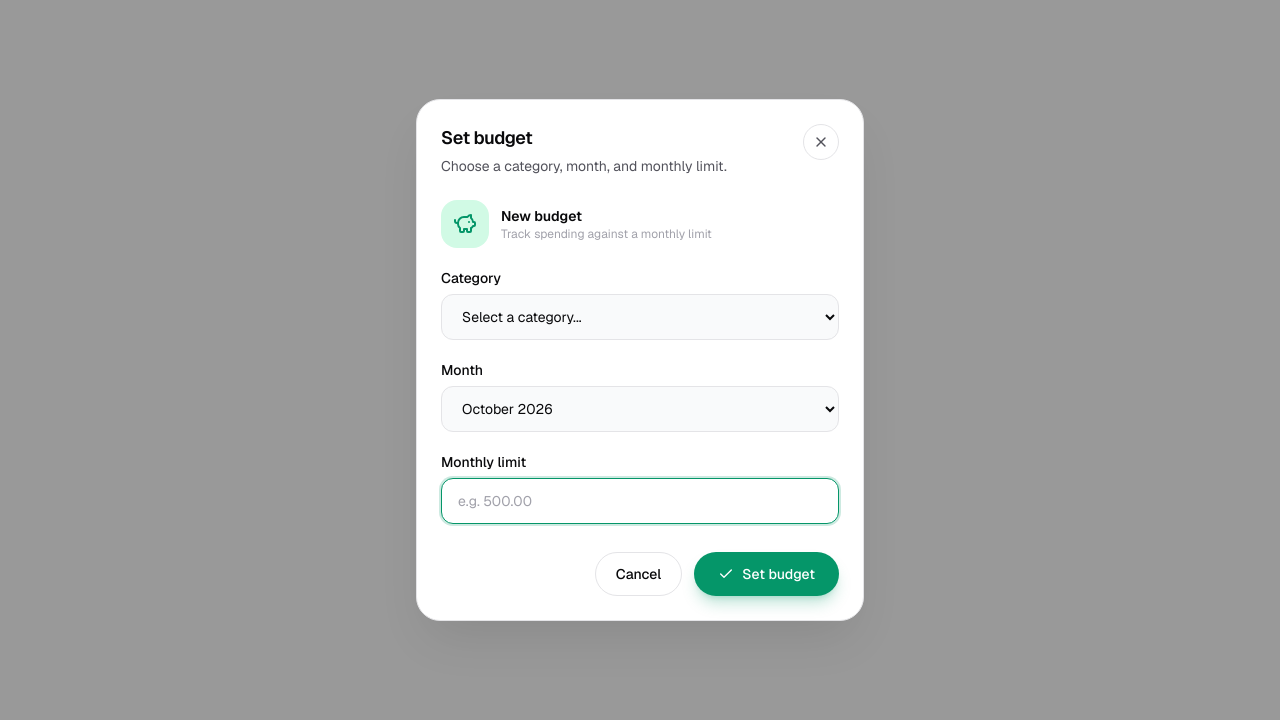
Test: BudgetFormModal › setting a budget › requires a category and a positive limit, saving nothing
This screenshot has width=1280, height=720.
Click the button "Set budget": (767, 574) [694,552,839,596]
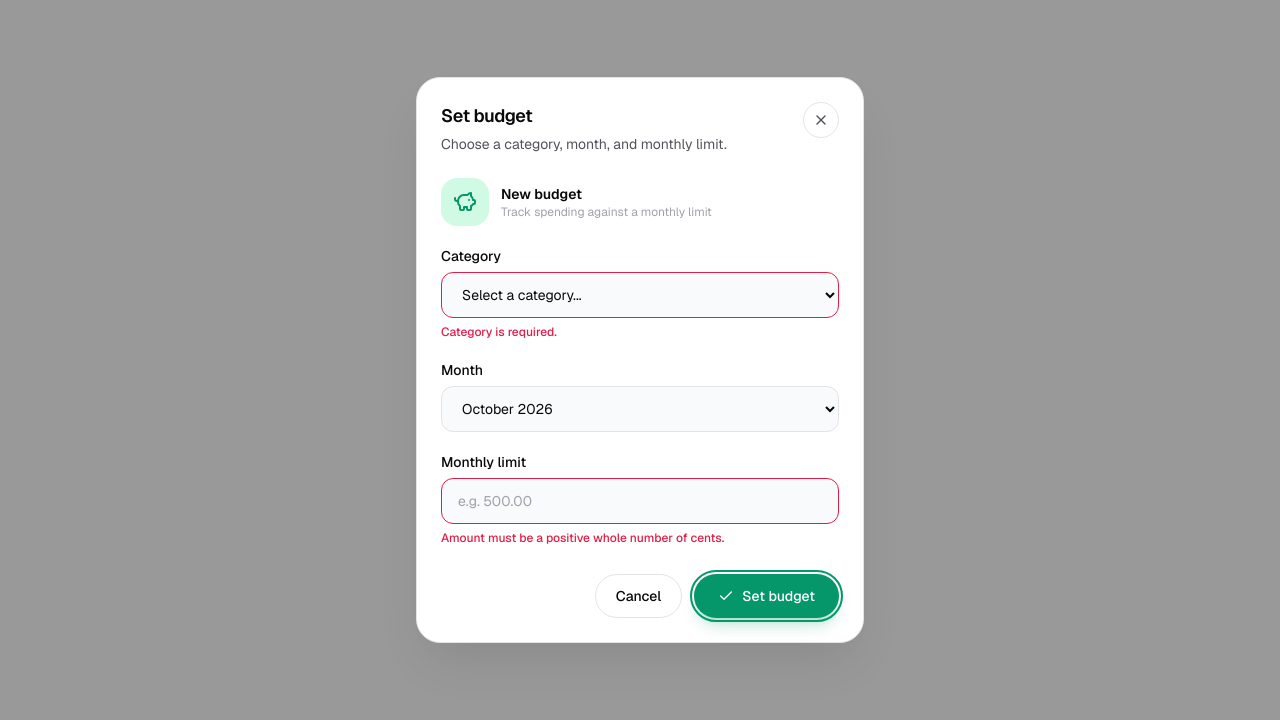
Expected: the text "Category is required." is shown, [441,324,557,340]
Expected: the text "Amount must be a positive whole number of cents." is shown, [441,530,724,546]
